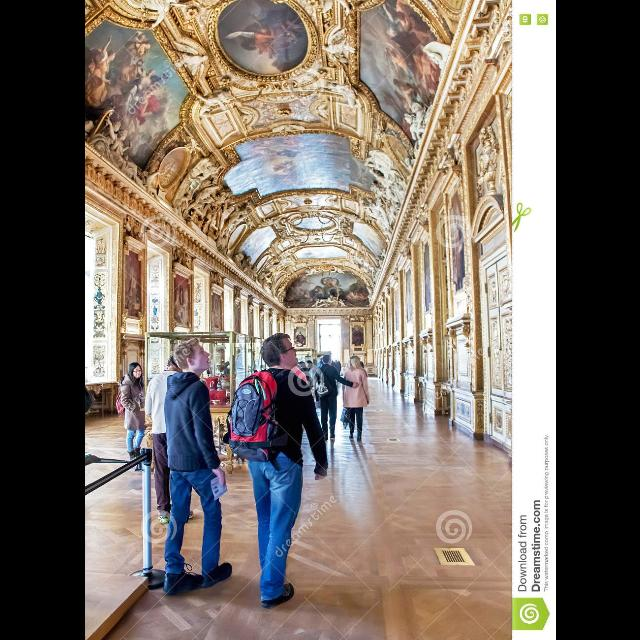head: (172, 339, 212, 371), (260, 336, 298, 368), (165, 356, 185, 374), (128, 362, 142, 378), (348, 357, 359, 369), (322, 354, 332, 366)
person: (220, 332, 330, 608), (160, 337, 236, 597), (142, 358, 205, 526), (115, 362, 154, 472), (313, 353, 359, 441), (341, 354, 372, 442)
